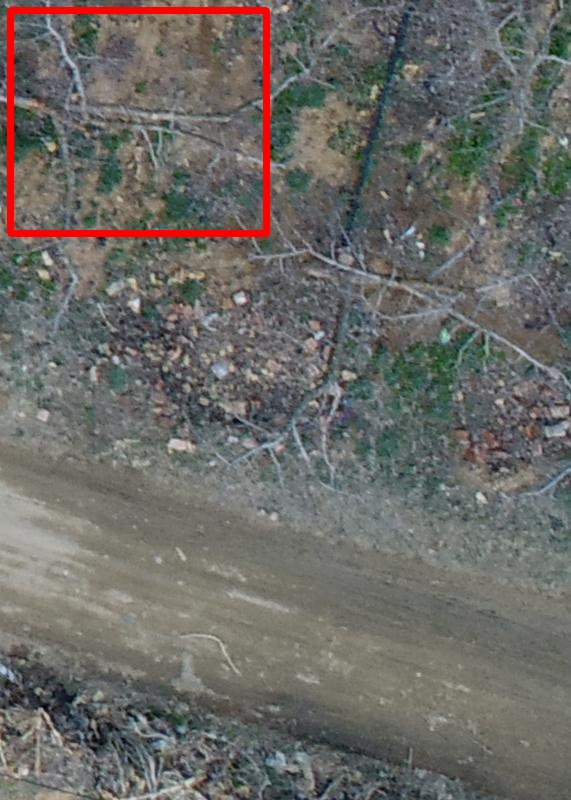apple: (10, 10, 266, 233)
